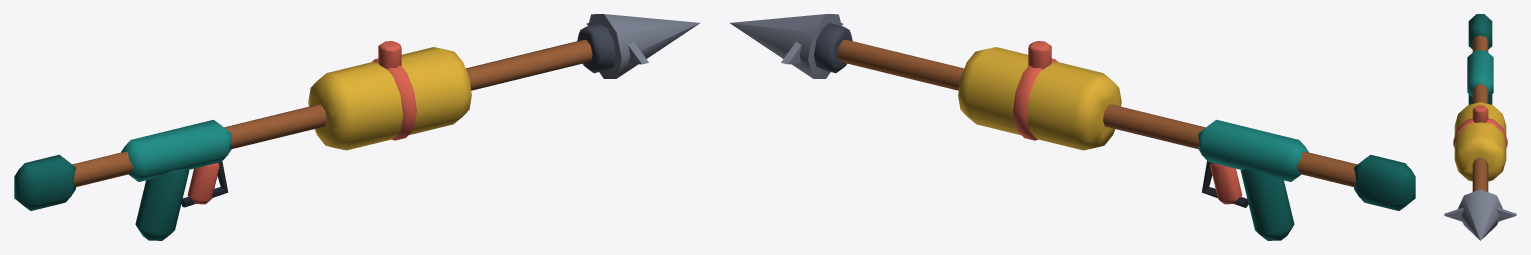
Rendered from SM_Prop_HeroHarpoon.fbx.
3 views of the same model, side by side, from view 1: azimuth 30°, elevation 25°; view 2: azimuth 150°, elevation 25°; view 3: azimuth 270°, elevation 25° (orthographic). The views are drawn at different scales.
Visible parts, largest first — view 1: SM_Prop_HeroHarpoon; view 2: SM_Prop_HeroHarpoon; view 3: SM_Prop_HeroHarpoon.
Part boxes in pixels (x1=…): SM_Prop_HeroHarpoon: x1=14, y1=14, x2=699, y2=240; SM_Prop_HeroHarpoon: x1=730, y1=14, x2=1415, y2=240; SM_Prop_HeroHarpoon: x1=1444, y1=14, x2=1516, y2=240.
Bounding box in the file's own units: 198 × 38.22 × 28.05.
